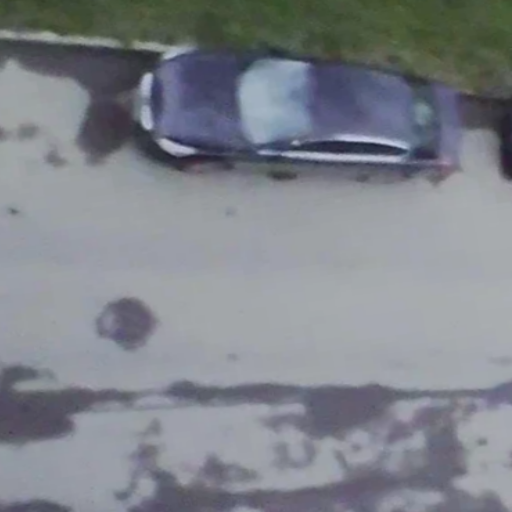Car: (137, 42, 462, 181)
